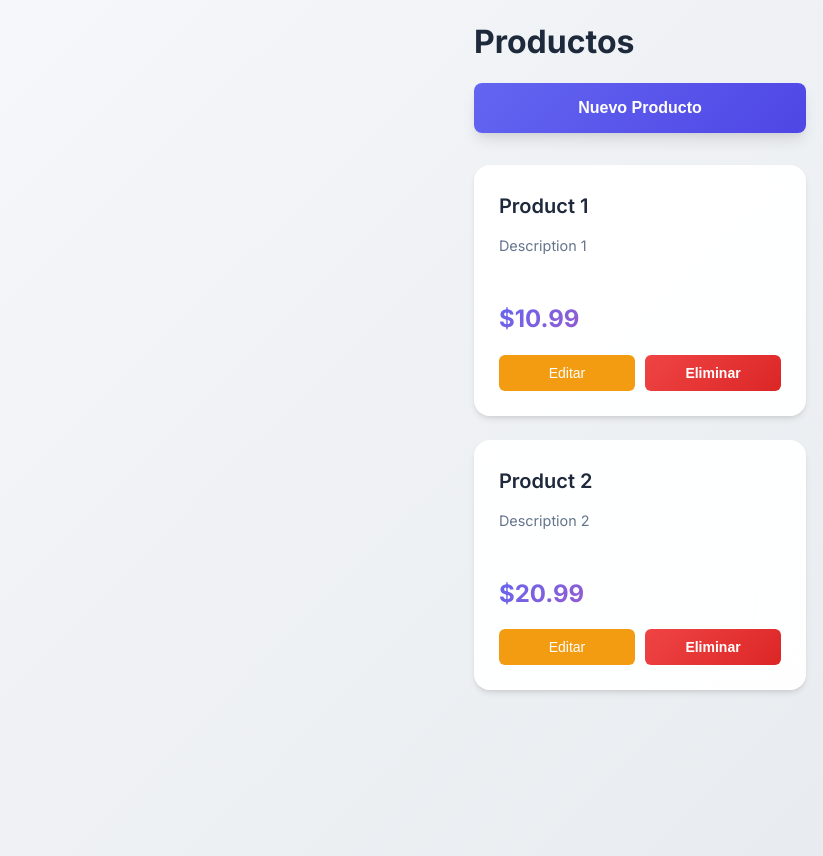
Products › should show edit form when edit button is clicked
Click "Editar" button on first product
Step 1. Click the button "Editar" below "10.99" → (567, 373), box [499, 355, 635, 391]
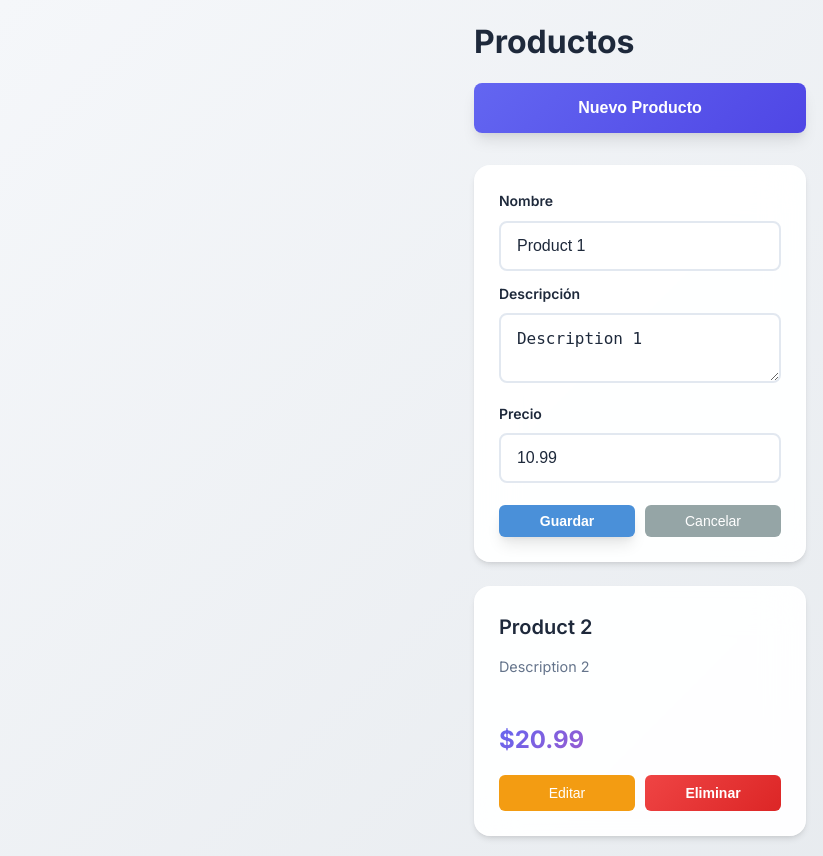
Now the button "Guardar" is shown, box [499, 505, 635, 537]
